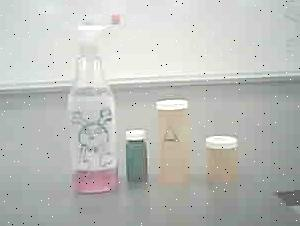Bottle A: (153, 97, 197, 187)
Bottle B: (201, 127, 246, 185)
Bottle C: (123, 126, 150, 188)
hazard: (64, 15, 123, 203)
